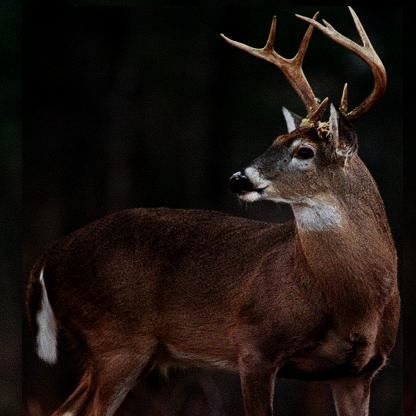Deer: (22, 6, 403, 416)
